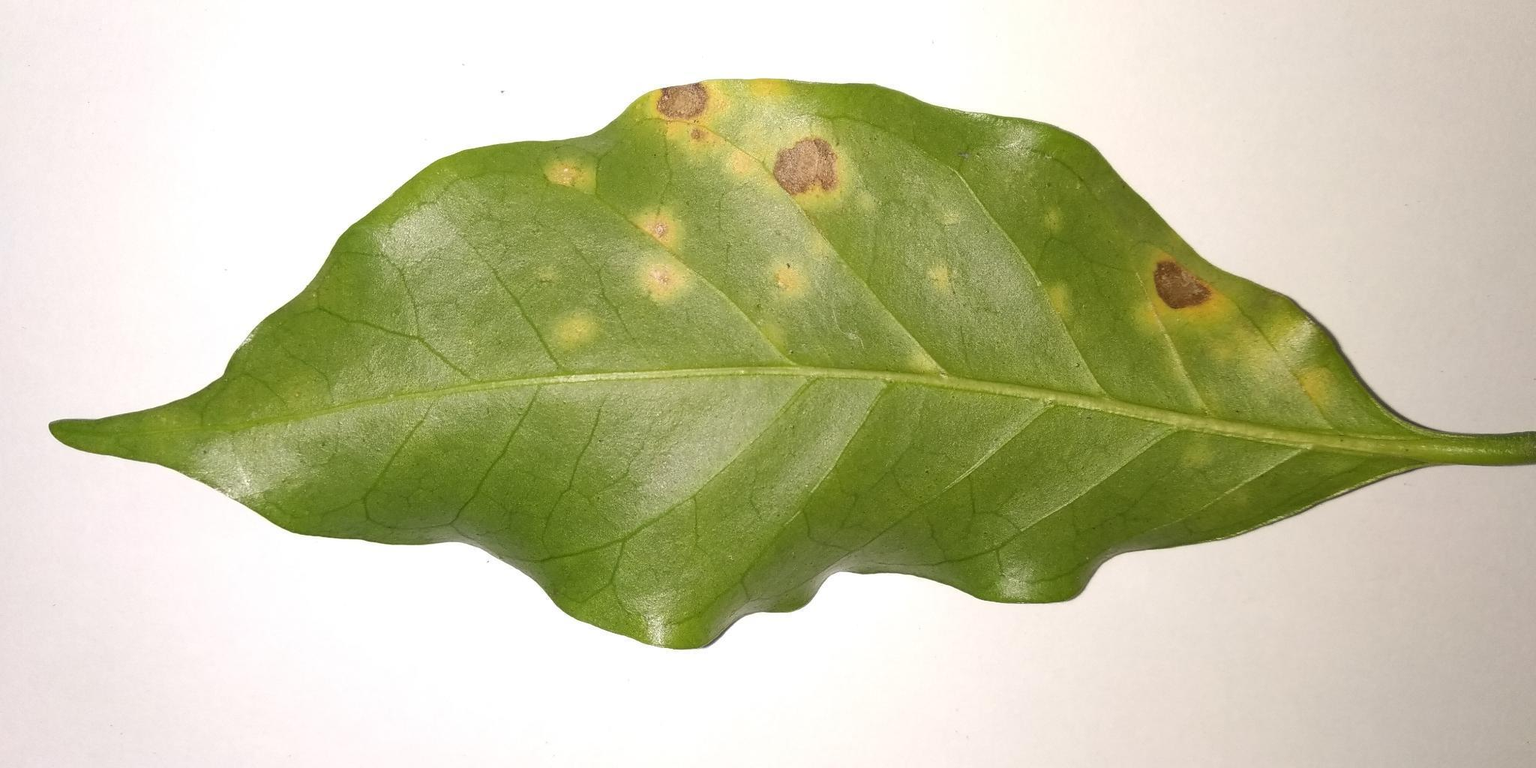Cercospora: (756, 120, 858, 213), (638, 68, 728, 146), (1138, 242, 1221, 326)
